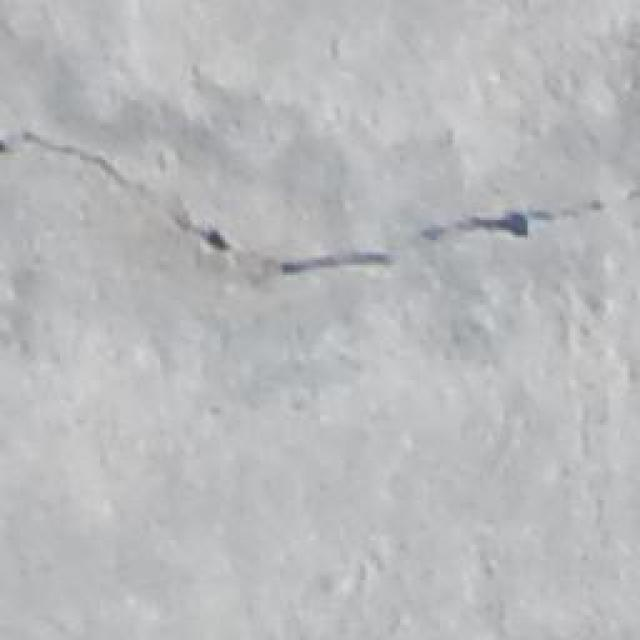concrete-crack: (0, 120, 639, 280)
